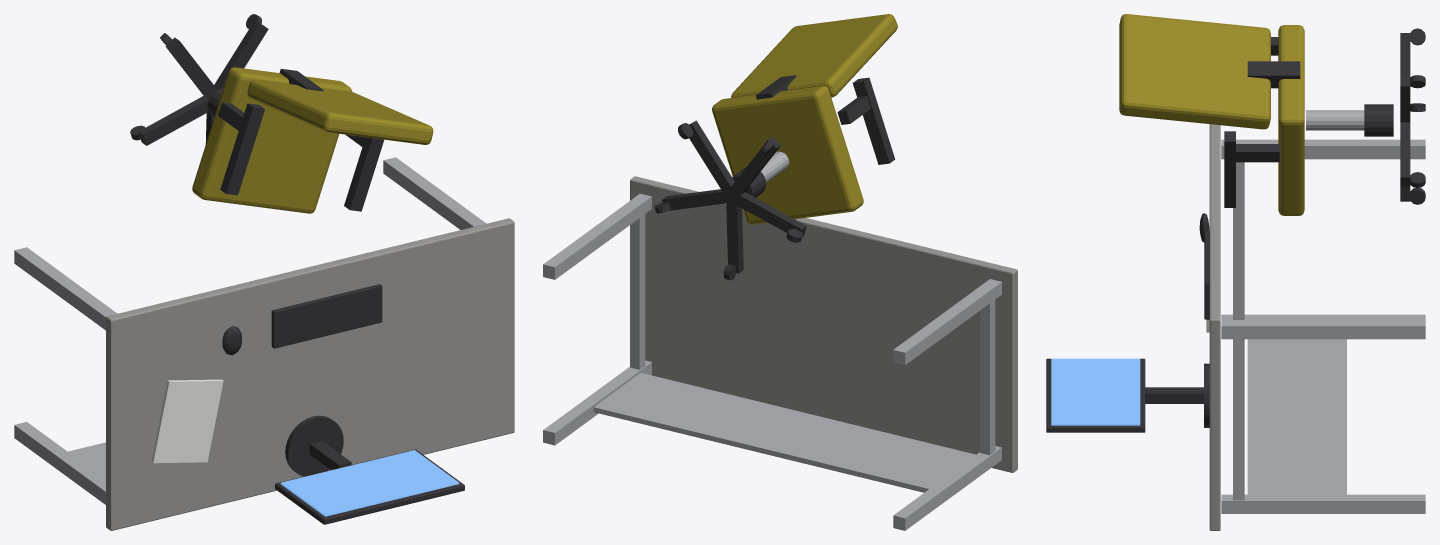
The model's file is podB_workstation1.glb.
3 renders of one model, left to right at view 1: azimuth 30°, elevation 25°; view 2: azimuth 150°, elevation 25°; view 3: azimuth 270°, elevation 25°, orthographic. The views are drawn at different scales.
Parts seen in each view (by area): view 1: podB_desk1_top, podB_chair1_seat, podB_mon1_screen, podB_chair1_back, podB_clut1_papers, podB_clut1_keyboard, podB_desk1_leg.002, podB_desk1_leg.003, podB_desk1_leg, podB_mon1_base, podB_mon1_panel, podB_chair1_arm (+6 smaller); view 2: podB_desk1_top, podB_desk1_modesty, podB_chair1_seat, podB_chair1_back, podB_desk1_leg.002, podB_desk1_leg, podB_desk1_leg.003, podB_desk1_rail, podB_desk1_rail.001, podB_desk1_leg.001, podB_chair1_arm, podB_chair1_spoke1 (+5 smaller); view 3: podB_desk1_modesty, podB_chair1_back, podB_mon1_screen, podB_desk1_top, podB_chair1_seat, podB_desk1_leg, podB_desk1_leg.001, podB_desk1_leg.002, podB_desk1_rail, podB_desk1_rail.001, podB_mon1_panel, podB_chair1_column (+10 smaller).
Boxes of the visible parts, x1,y1,x2,y2 form: podB_desk1_top: (106,218,514,530); podB_chair1_seat: (192,67,352,213); podB_mon1_screen: (280,450,459,516); podB_chair1_back: (247,79,433,144); podB_clut1_papers: (151,379,223,463); podB_clut1_keyboard: (271,284,382,348); podB_desk1_leg.002: (14,247,117,330); podB_desk1_leg.003: (14,422,105,504); podB_desk1_leg: (383,157,486,229); podB_mon1_base: (285,415,343,476); podB_mon1_panel: (275,449,464,524); podB_chair1_arm: (220,103,264,195); podB_desk1_top: (630,176,1017,472); podB_desk1_modesty: (593,373,975,492); podB_chair1_seat: (712,86,863,224); podB_chair1_back: (731,14,897,97); podB_desk1_leg.002: (893,279,1001,365); podB_desk1_leg: (543,193,651,279); podB_desk1_leg.003: (893,446,1001,530); podB_desk1_rail: (630,214,645,369); podB_desk1_rail.001: (980,300,995,455); podB_desk1_leg.001: (543,360,651,445); podB_chair1_arm: (852,77,895,164); podB_chair1_spoke1: (689,120,734,198); podB_desk1_modesty: (1247,339,1346,494); podB_chair1_back: (1119,14,1270,129); podB_mon1_screen: (1051,358,1140,425); podB_desk1_top: (1209,124,1220,530); podB_chair1_seat: (1278,25,1304,215); podB_desk1_leg: (1221,320,1425,339); podB_desk1_leg.001: (1221,494,1425,513); podB_desk1_leg.002: (1221,139,1425,159); podB_desk1_rail: (1233,339,1244,500); podB_desk1_rail.001: (1233,162,1244,319); podB_mon1_panel: (1046,358,1145,432); podB_chair1_column: (1306,110,1364,130).
Bounding box in the file's own units: 1.6 × 1.54 × 1.3.
